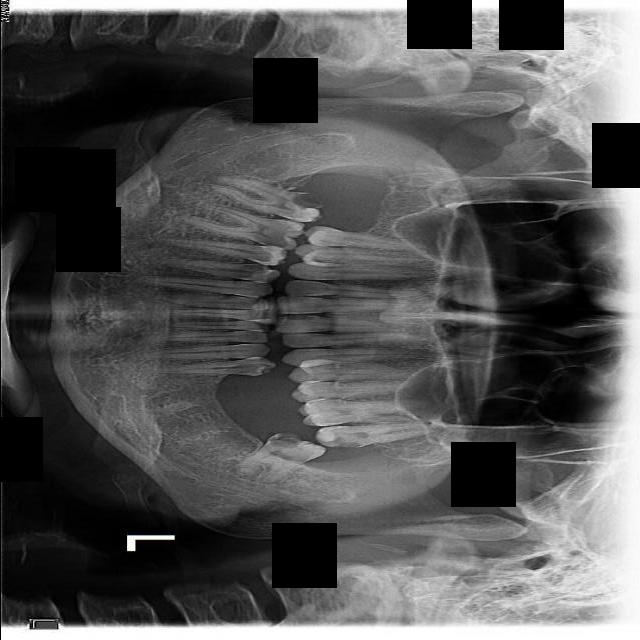Sterngold Implant: (289, 187, 323, 219), (252, 228, 294, 249), (323, 433, 363, 450), (267, 433, 305, 449), (234, 264, 273, 277), (236, 365, 267, 375), (281, 314, 317, 322), (314, 237, 332, 248), (283, 214, 301, 223), (278, 220, 291, 224)
